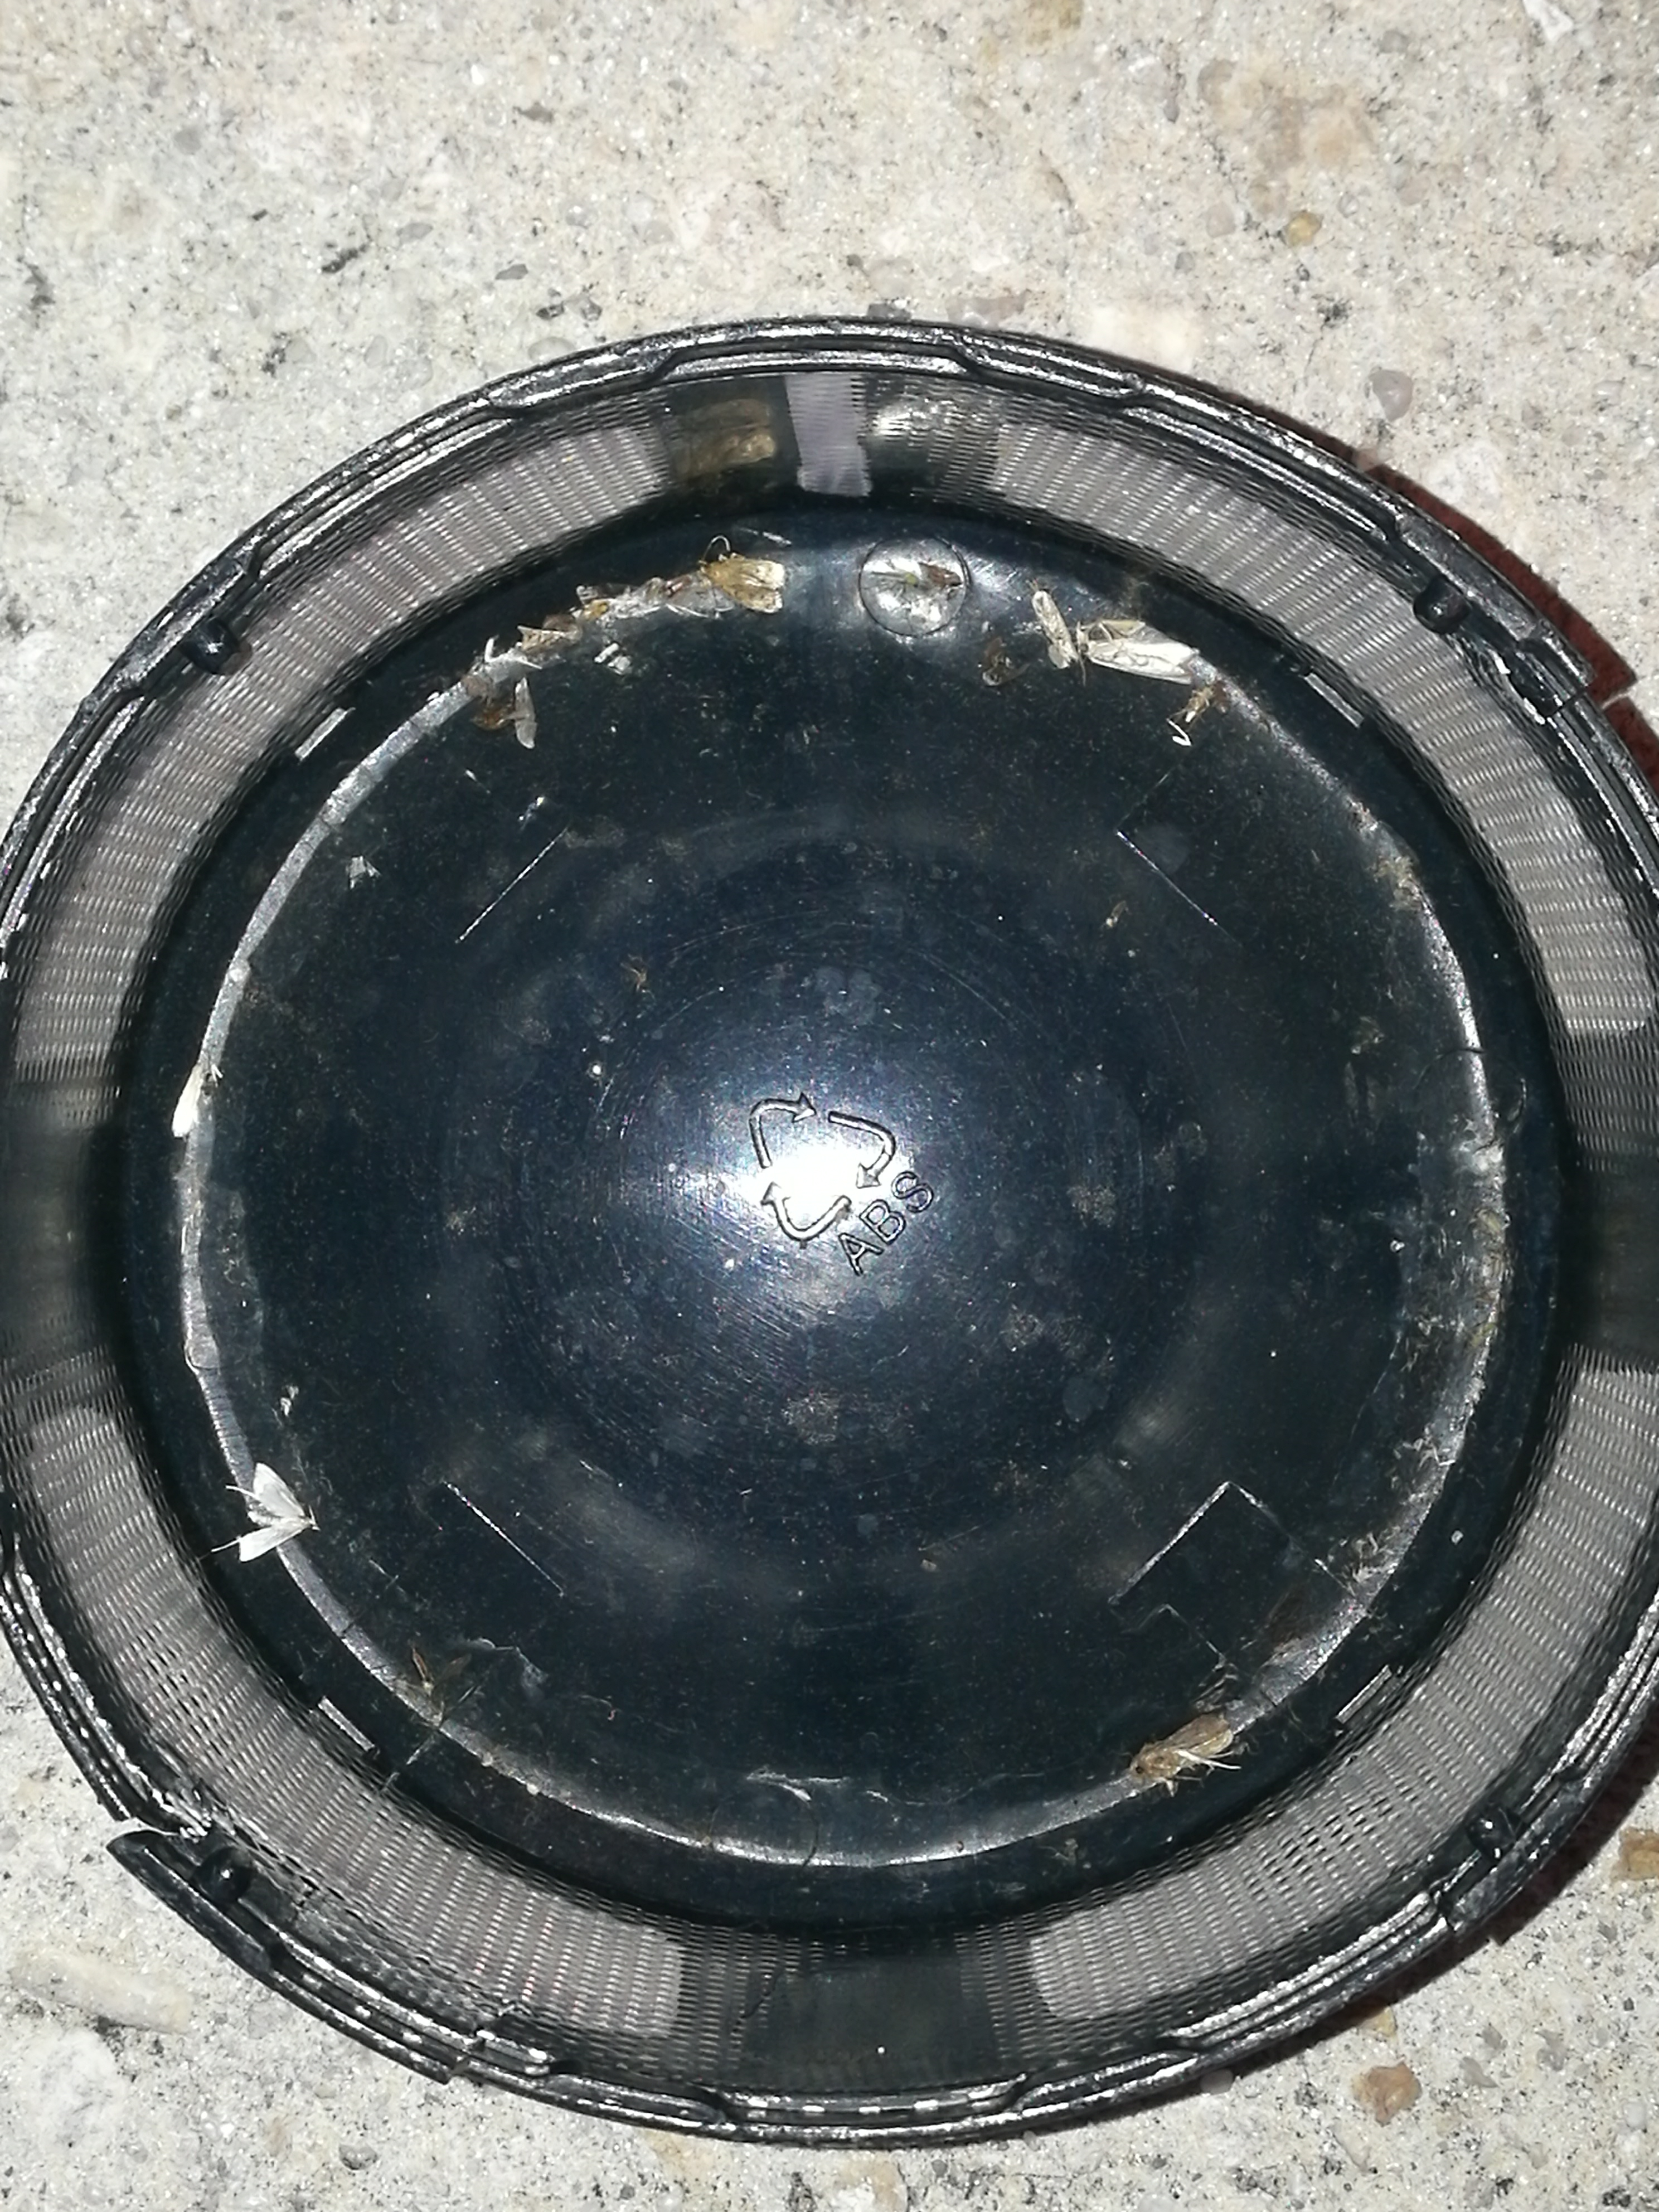mosquito: (1079, 639, 1199, 685), (1032, 590, 1077, 667), (174, 1064, 202, 1137)
moth: (240, 1463, 308, 1561), (1129, 1714, 1230, 1777), (706, 561, 784, 611)
